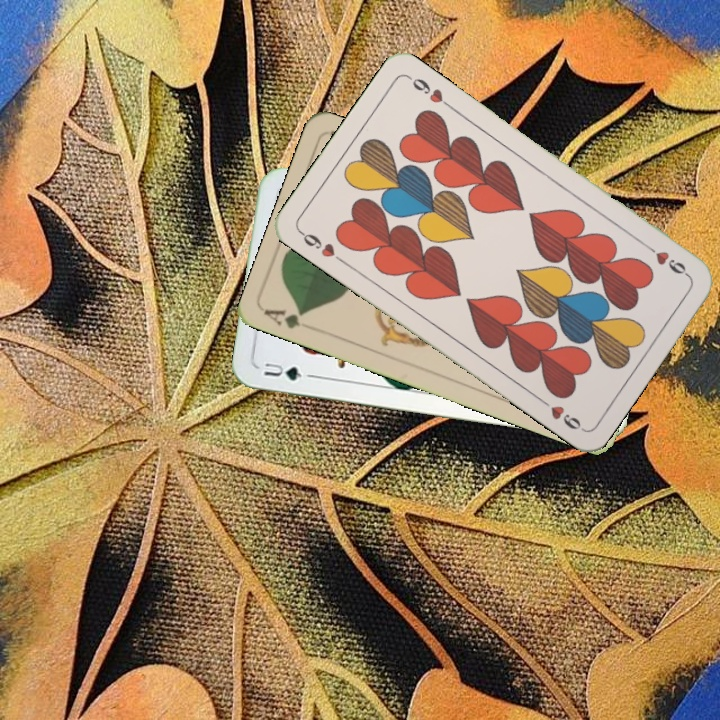GA: (261, 305, 309, 332)
GU: (259, 358, 305, 383)
H9: (641, 239, 692, 280), (295, 227, 347, 266)
